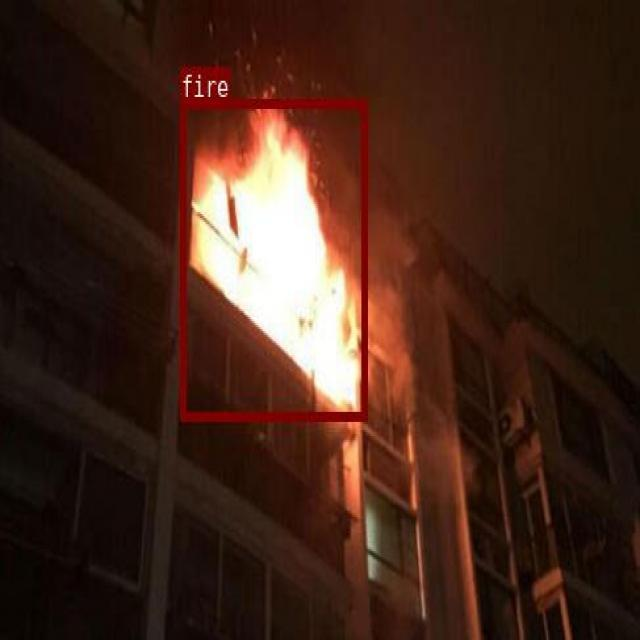fire: (180, 99, 366, 419)
